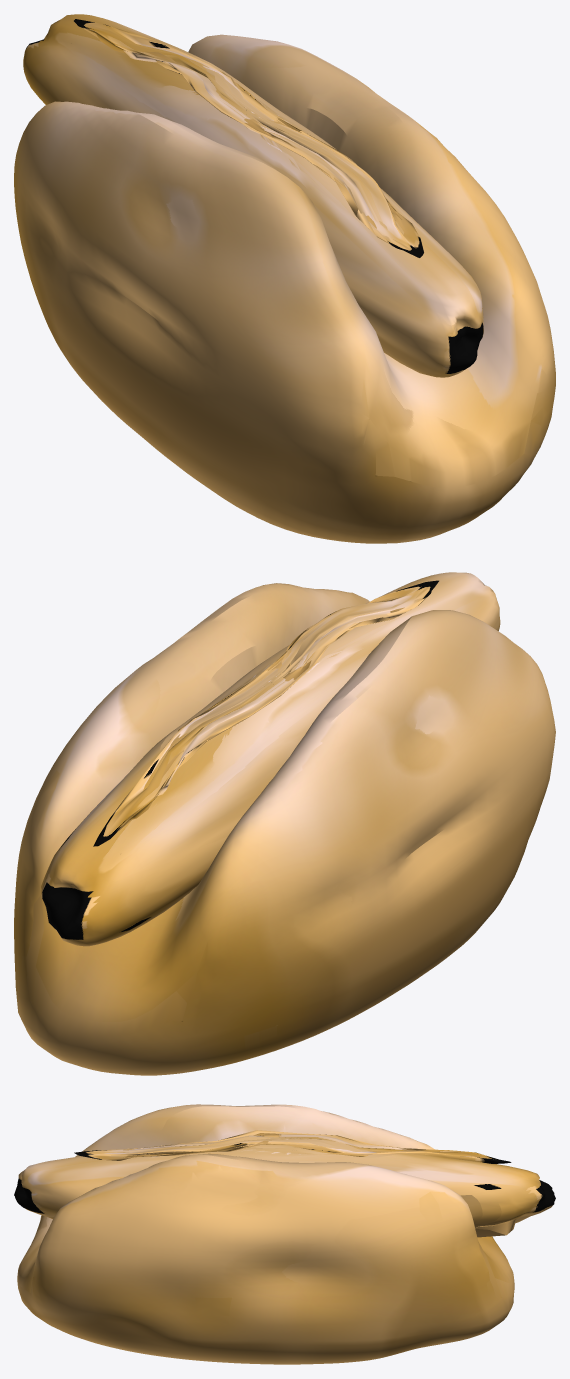
The model's file is Hotdog_Final.fbx.
The picture shows the model from 3 angles, top to bottom: view 1: azimuth 30°, elevation 25°; view 2: azimuth 150°, elevation 25°; view 3: azimuth 270°, elevation 25°; orthographic projection. The views are drawn at different scales.
Parts seen in each view (by area): view 1: Bun, Hotdog, Ketchup; view 2: Bun, Hotdog, Ketchup; view 3: Bun, Hotdog, Ketchup.
Boxes of the visible parts, x1=… form: Bun: x1=14, y1=34, x2=555, y2=543; Hotdog: x1=23, y1=14, x2=483, y2=377; Ketchup: x1=74, y1=19, x2=423, y2=257; Bun: x1=14, y1=583, x2=555, y2=1075; Hotdog: x1=41, y1=572, x2=500, y2=946; Ketchup: x1=93, y1=580, x2=438, y2=846; Bun: x1=17, y1=1104, x2=514, y2=1364; Hotdog: x1=14, y1=1145, x2=555, y2=1237; Ketchup: x1=74, y1=1130, x2=511, y2=1163.
Bounding box in the file's own units: 180 × 181 × 405.
3 materials, 3 textured.
